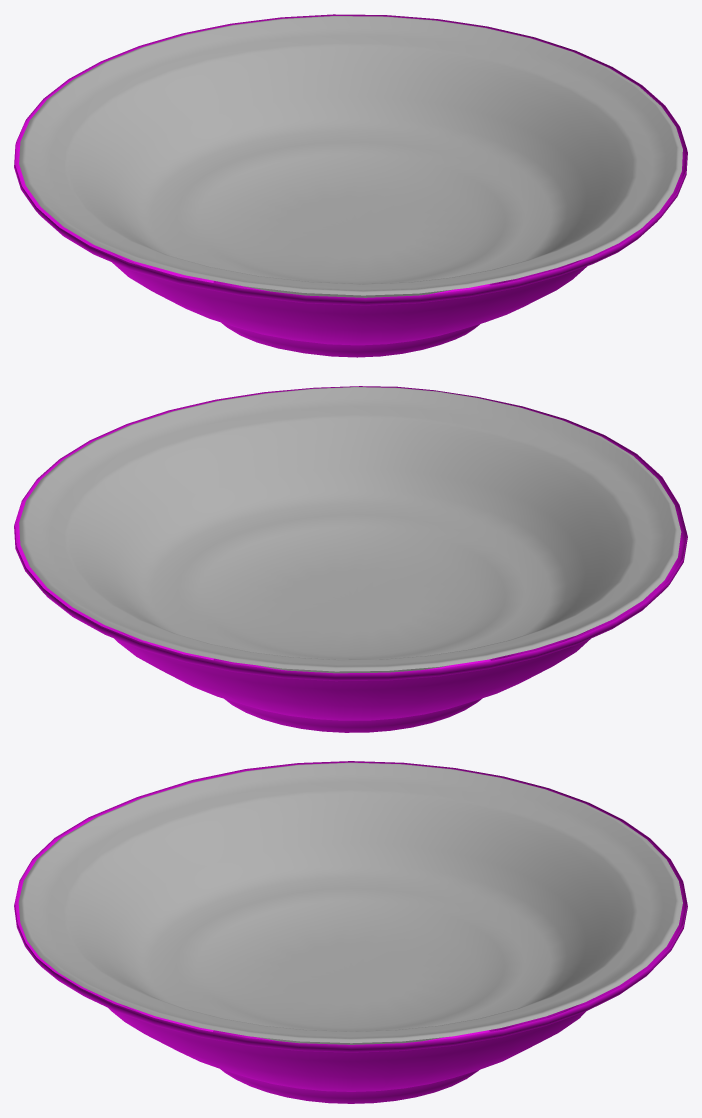
The model's file is Dish1-1 1.fbx.
3 renders of one model, top to bottom at view 1: azimuth 30°, elevation 25°; view 2: azimuth 150°, elevation 25°; view 3: azimuth 270°, elevation 25°, orthographic.
Parts seen in each view (by area): view 1: pCylinder2, pCylinder1; view 2: pCylinder2, pCylinder1; view 3: pCylinder2, pCylinder1.
Boxes of the visible parts, x1,y1,x2,y2 form: pCylinder2: (19,16,682,297); pCylinder1: (14,14,687,357); pCylinder2: (19,387,681,673); pCylinder1: (14,386,687,732); pCylinder2: (18,762,682,1044); pCylinder1: (14,761,687,1103).
Size of the model in its own units: 12.43 by 2.91 by 12.44.
